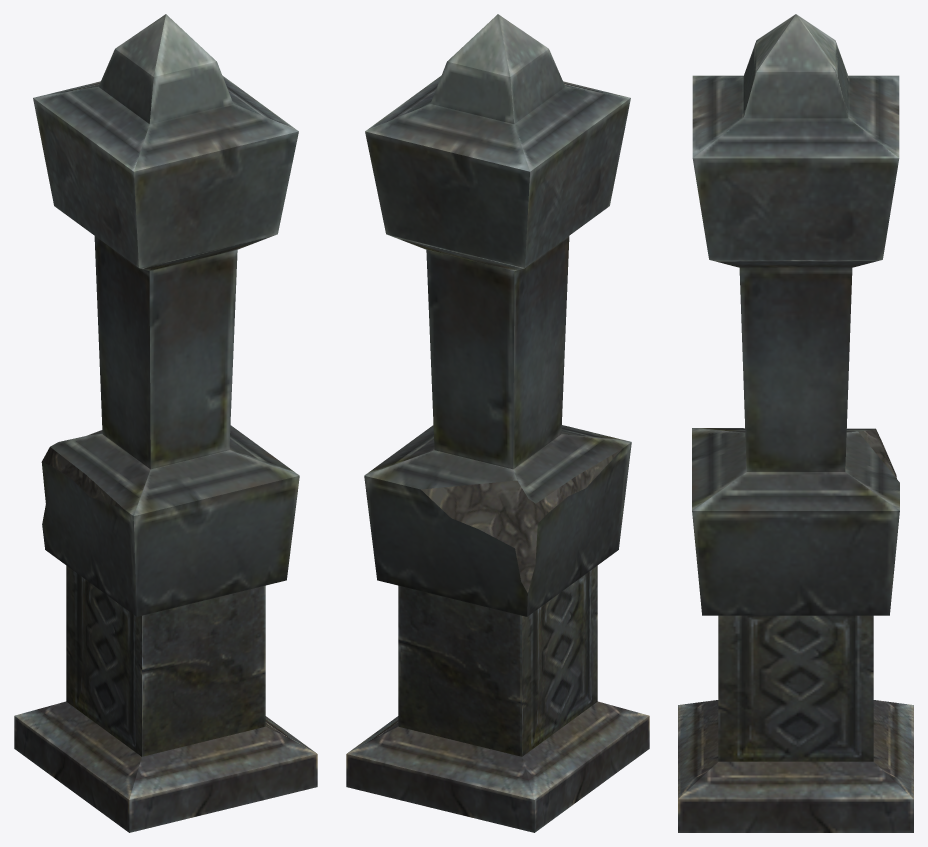
Rendered from F_fushou002.fbx.
3 views of the same model, side by side, from view 1: azimuth 30°, elevation 25°; view 2: azimuth 150°, elevation 25°; view 3: azimuth 270°, elevation 25° (orthographic). The views are drawn at different scales.
Visible parts, largest first — view 1: F_fushou002; view 2: F_fushou002; view 3: F_fushou002.
Boxes of the visible parts, x1=… form: F_fushou002: x1=14, y1=14, x2=317, y2=832; F_fushou002: x1=346, y1=14, x2=649, y2=832; F_fushou002: x1=678, y1=14, x2=913, y2=832.
Bounding box in the file's own units: 72.22 × 276 × 76.43.
